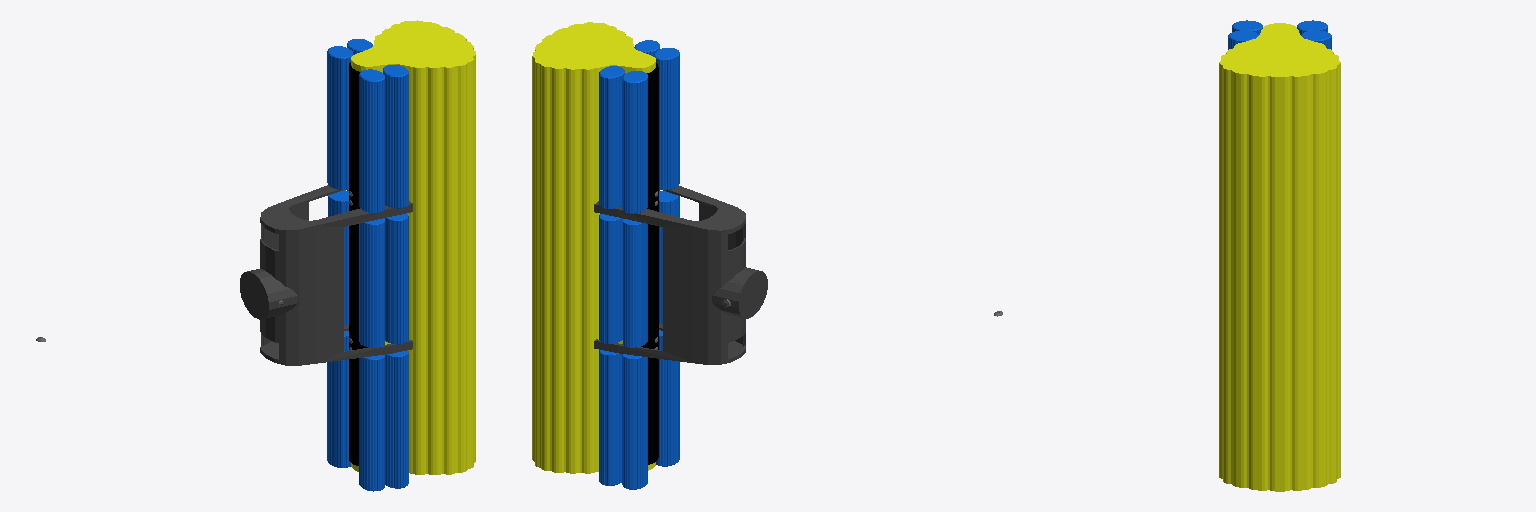
robot.urdf — spot_arm:
<?xml version="1.0" ?>
<robot name="spot_arm" xmlns:xacro="http://www.ros.org/wiki/xacro">

<material name="silver">
  <color rgba="0.700 0.700 0.700 1.000"/>
</material>
<link name="body">
    <visual>
        <geometry>
            <mesh filename="package://spot_arm/meshes/body.dae" />
        </geometry>
    </visual>
    <collision>
        <geometry>
            <mesh filename="package://spot_arm/meshes/body_collision.dae" />
        </geometry>
    </collision>
</link>

<joint name="base_arm_joint" type="fixed">
  <origin xyz="0.29 0 0.08" rpy="0 0 0" />
  <parent link="body" />
  <child link="base_arm_link" />
</joint>

<link name="base_arm_link">
  <inertial>
    <origin rpy="0 0 0" xyz="1.2371844231029972e-17 0.0 0.0325"/>
    <mass value="5.770791545379091"/>
    <inertia ixx="0.007226" ixy="-0.0" ixz="0.0" iyy="0.007226" iyz="0.0" izz="0.010387"/>
  </inertial>
  <visual>
    <origin rpy="0 0 0" xyz="0 0 0"/>
    <geometry>
      <mesh filename="package://spot_arm/meshes/arm/base_link.dae" scale="0.1 0.1 0.1"/>
    </geometry>
  </visual>
  <collision>
    <origin rpy="0 0 0" xyz="0 0 0"/>
    <geometry>
      <mesh filename="package://spot_arm/meshes/arm/base_link_collision.dae" scale="0.1 0.1 0.1"/>
    </geometry>
  </collision>
</link>

<joint name="arm_joint1" type="revolute">
  <origin rpy="0 0 1.5707963267948966" xyz="0.0 0.0 0.065"/>
  <parent link="base_arm_link"/>
  <child link="link1"/>
  <axis xyz="0.0 0.0 1.0"/>
  <limit effort="100" lower="-3.141593" upper="2.617994" velocity="100"/>
</joint>

<link name="link1">
  <inertial>
    <origin rpy="0 0 0" xyz="0.05071972800114364 -1.0308563411658574e-17 0.04676911608650795"/>
    <mass value="6.925827706354272"/>
    <inertia ixx="0.01241" ixy="-0.0" ixz="-0.001047" iyy="0.010387" iyz="0.0" izz="0.012306"/>
  </inertial>
  <visual>
    <origin rpy="0 0 0" xyz="-0.0 -0.0 -0.065"/>
    <geometry>
      <mesh filename="package://spot_arm/meshes/arm/link1.dae" scale="0.1 0.1 0.1"/>
    </geometry>
    <material name="silver"/>
  </visual>
  <collision>
    <origin rpy="0 0 0" xyz="-0.0 -0.0 -0.065"/>
    <geometry>
      <mesh filename="package://spot_arm/meshes/arm/link1_collision.dae" scale="0.1 0.1 0.1"/>
    </geometry>
  </collision>
</link>


<joint name="arm_joint2" type="revolute">
  <origin rpy="-3.141592653589793 0 0" xyz="0.015 0.0 0.05"/>
  <parent link="link1"/>
  <child link="link2"/>
  <axis xyz="1.0 0.0 0.0"/>
  <limit effort="100" lower="-3.665191" upper="0.0" velocity="100"/>
</joint>


<link name="link2">
  <inertial>
    <origin rpy="0 0 0" xyz="-0.0163095589512068 0.17540914221218962 0.0"/>
    <mass value="12.658281999999998"/>
    <inertia ixx="0.12979" ixy="0.002625" ixz="0.0" iyy="0.01004" iyz="0.0" izz="0.129493"/>
  </inertial>
  <visual>
    <origin rpy="0 0 0" xyz="-0.015 -0.0 -0.115"/>
    <geometry>
      <mesh filename="package://spot_arm/meshes/arm/link2.dae" scale="0.1 0.1 0.1"/>
    </geometry>
    <material name="silver"/>
  </visual>
  <collision>
    <origin rpy="0 0 0" xyz="-0.015 -0.0 -0.115"/>
    <geometry>
      <mesh filename="package://spot_arm/meshes/arm/link2_collision.dae" scale="0.1 0.1 0.1"/>
    </geometry>
  </collision>
</link>



<joint name="arm_joint3" type="revolute">
  <origin rpy="0 0 0" xyz="0.002 0.3125 0.0"/>
  <parent link="link2"/>
  <child link="link3"/>
  <axis xyz="1.0 0.0 0.0"/>
  <limit effort="100" lower="0.0" upper="2.96706" velocity="100"/>
</joint>


<link name="link3">
  <inertial>
    <origin rpy="0 0 0" xyz="-0.015621881612358529 0.06665620790957599 -0.058074231003688394"/>
    <mass value="7.368455487741179"/>
    <inertia ixx="0.018073" ixy="0.000915" ixz="-0.00101" iyy="0.011789" iyz="0.003728" izz="0.01667"/>
  </inertial>
  <visual>
    <origin rpy="0 0 0" xyz="-0.017 -0.3125 -0.115"/>
    <geometry>
      <mesh filename="package://spot_arm/meshes/arm/link3.dae" scale="0.1 0.1 0.1"/>
    </geometry>
    <material name="silver"/>
  </visual>
  <collision>
    <origin rpy="0 0 0" xyz="-0.017 -0.3125 -0.115"/>
    <geometry>
      <mesh filename="package://spot_arm/meshes/arm/link3_collision.dae" scale="0.1 0.1 0.1"/>
    </geometry>
  </collision>
</link>


<joint name="arm_joint4" type="revolute">
  <origin rpy="0 0 0" xyz="-0.018 0.138 -0.0675"/>
  <parent link="link3"/>
  <child link="link4"/>
  <axis xyz="0.0 1.0 0.0"/>
  <limit effort="100" lower="-2.879793" upper="2.879793" velocity="100"/>
</joint>


<link name="link4">
  <inertial>
    <origin rpy="0 0 0" xyz="-0.00911464892336129 0.12606054498393937 5.551115123125783e-17"/>
    <mass value="10.95245995004642"/>
    <inertia ixx="0.066789" ixy="0.011971" ixz="-0.0" iyy="0.014993" iyz="0.0" izz="0.071949"/>
  </inertial>
  <visual>
    <origin rpy="0 0 0" xyz="0.001 -0.4505 -0.0475"/>
    <geometry>
      <mesh filename="package://spot_arm/meshes/arm/link4.dae" scale="0.1 0.1 0.1"/>
    </geometry>
    <material name="silver"/>
  </visual>
  <collision>
    <origin rpy="0 0 0" xyz="0.001 -0.4505 -0.0475"/>
    <geometry>
      <mesh filename="package://spot_arm/meshes/arm/link4_collision.dae" scale="0.1 0.1 0.1"/>
    </geometry>
  </collision>
</link>


<joint name="arm_joint5" type="revolute">
  <origin rpy="0 0 0" xyz="-0.0475 0.24809 0.0"/>
  <parent link="link4"/>
  <child link="wrist"/>
  <axis xyz="1.0 0.0 0.0"/>
  <limit effort="100" lower="-1.570796" upper="1.570796" velocity="100"/>
</joint>



<link name="wrist">
  <inertial>
    <origin rpy="0 0 0" xyz="0.03954999709763633 0.03472006124891969 4.209155544249166e-08"/>
    <mass value="3.2278801394086396"/>
    <inertia ixx="0.00339" ixy="-2.1e-05" ixz="0.0" iyy="0.002242" iyz="-0.0" izz="0.003439"/>
  </inertial>
  <visual>
    <origin rpy="0 0 0" xyz="0.0485 -0.69859 -0.0475"/>
    <geometry>
      <mesh filename="package://spot_arm/meshes/arm/wrist.dae" scale="0.1 0.1 0.1"/>
    </geometry>
    <material name="silver"/>
  </visual>
  <collision>
    <origin rpy="0 0 0" xyz="0.0485 -0.69859 -0.0475"/>
    <geometry>
      <mesh filename="package://spot_arm/meshes/arm/wrist_collision.dae" scale="0.1 0.1 0.1"/>
    </geometry>
  </collision>
</link>

<joint name="arm_joint6" type="revolute">
  <origin rpy="0 0 0" xyz="0.04 0.081 0.0"/>
  <parent link="wrist"/>
  <child link="gripper"/>
  <axis xyz="-0.0 1.0 0.0"/>
  <limit effort="100" lower="-2.96706" upper="2.96706" velocity="100"/>
</joint>


<link name="gripper">
  <inertial>
    <origin rpy="0 0 0" xyz="-8.366123908053191e-08 0.07051371901138614 0.017123167388316526"/>
    <mass value="5.9780007036604434"/>
    <inertia ixx="0.01723" ixy="0.0" ixz="0.0" iyy="0.00734" iyz="-0.003871" izz="0.0153"/>
  </inertial>
  <visual>
    <origin rpy="0 0 0" xyz="0.0085 -0.77959 -0.0475"/>
    <geometry>
      <mesh filename="package://spot_arm/meshes/arm/gripper.dae" scale="0.1 0.1 0.1"/>
    </geometry>
    <material name="silver"/>
  </visual>
  <collision>
    <origin rpy="0 0 0" xyz="0.0085 -0.77959 -0.0475"/>
    <geometry>
      <mesh filename="package://spot_arm/meshes/arm/gripper_collision.dae" scale="0.1 0.1 0.1"/>
    </geometry>
  </collision>
</link>

<joint name="arm_gripper" type="revolute">
  <origin rpy="0 0 0" xyz="-0.86859 0.043915 -0.029"/>
  <parent link="gripper"/>
  <child link="finger"/>
  <axis xyz="1.0 -0.0 0.0"/>
  <limit effort="100" lower="-1.396263" upper="0.349066" velocity="100"/>
</joint>

<link name="finger">
  <inertial>
    <origin rpy="0 0 0" xyz="0.8635899028063472 0.09862056591557622 0.00850232975194119"/>
    <mass value="1.71236178687828"/>
    <inertia ixx="0.002129" ixy="0.0" ixz="-0.0" iyy="0.001681" iyz="0.000162" izz="0.003403"/>
  </inertial>
  <visual>
    <origin rpy="0 0 0" xyz="0.87709 -0.823505 -0.0185"/>
    <geometry>
      <mesh filename="package://spot_arm/meshes/arm/finger.dae" scale="0.1 0.1 0.1"/>
    </geometry>
    <material name="silver"/>
  </visual>
  <collision>
    <origin rpy="0 0 0" xyz="0.87709 -0.823505 -0.0185"/>
    <geometry>
      <mesh filename="package://spot_arm/meshes/arm/finger_collision.dae" scale="0.1 0.1 0.1"/>
    </geometry>
  </collision>
</link>

  <joint name="tool_tip_joint" type="fixed">
    <origin xyz="0.0 0.25 0.0" rpy="-1.570796 0 0" />
    <parent link="gripper" />
    <child link="tool_tip" />
  </joint>

  <link name="tool_tip"/>

  <joint name="finger_tip_joint" type="fixed">
    <origin rpy="-1.570796 0 0" xyz="0 0.20 0"/>
    <parent link="gripper"/>
    <child link="finger_tip"/>
  </joint>

  <link name="finger_tip"/>

   <link name="base_link"/>
    <joint name="base_link_joint" type="fixed">
        <origin xyz="0 0 0" rpy="0 0 0" />
        <parent link="body" />
        <child link="base_link" />
    </joint>

    <link name="front_rail"/>
    <joint name="front_rail_joint" type="fixed">
        <origin xyz="0.223 0 0.0805" rpy="0 0 0" />
        <parent link="body" />
        <child link="front_rail" />
    </joint>

    <link name="real_front_rail"/>
    <joint name="real_front_rail_joint" type="fixed">
        <origin xyz="0.2075 0 0.0805" rpy="0 0 0" />
        <parent link="body" />
        <child link="real_front_rail" />
    </joint>

    <link name="rear_rail"/>
    <joint name="rear_rail_joint" type="fixed">
        <origin xyz="-0.223 0 0.0805" rpy="0 0 0" />
        <parent link="body" />
        <child link="rear_rail" />
    </joint>

    <link name="real_rear_rail"/>
    <joint name="real_rear_rail_joint" type="fixed">
        <origin xyz="-0.415 0 0" rpy="0 0 0" />
        <parent link="real_front_rail" />
        <child link="real_rear_rail" />
    </joint>

    <link name="front_left_hip">
        <visual>
            <geometry>
                <mesh filename="package://spot_arm/meshes/front_left_hip.dae" />
            </geometry>
        </visual>
        <collision>
            <geometry>
                <mesh filename="package://spot_arm/meshes/front_left_hip_collision.dae" />
            </geometry>
        </collision>
    </link>
    <joint name="front_left_hip_x" type="revolute">
        <origin xyz="0.29785 0.05500 0.00000" rpy="0.0 0 0" />
        <axis xyz="1 0 0" />
        <parent link="body" />
        <child link="front_left_hip" />
        <limit effort="1000" velocity="1000.00" lower="-0.78539816339744827899" upper="0.78539816339744827899" />
    </joint>
    <link name="front_left_upper_leg">
        <visual>
            <geometry>
                <mesh filename="package://spot_arm/meshes/front_left_upper_leg.dae" />
            </geometry>
        </visual>
        <collision>
            <geometry>
                <mesh filename="package://spot_arm/meshes/front_left_upper_leg_collision.dae" />
            </geometry>
        </collision>
    </link>
    <joint name="front_left_hip_y" type="revolute">
        <origin xyz="0.0 0.110945 0.0" rpy="0 1.3 0" />
        <axis xyz="0 1 0" />
        <parent link="front_left_hip" />
        <child link="front_left_upper_leg" />
        <limit effort="1000" velocity="1000.00" lower="-0.89884456477707963539" upper="2.2951079663725435509" />
    </joint>
    <link name="front_left_lower_leg">
        <visual>
            <geometry>
                <mesh filename="package://spot_arm/meshes/front_left_lower_leg.dae" />
            </geometry>
        </visual>
        <collision>
            <geometry>
                <mesh filename="package://spot_arm/meshes/front_left_lower_leg_collision.dae" />
            </geometry>
        </collision>
    </link>
    <joint name="front_left_knee" type="revolute">
        <origin xyz="0.025 0.000 -0.3205" rpy="0 -2.5 0" />
        <axis xyz="0 1 0" />
        <parent link="front_left_upper_leg" />
        <child link="front_left_lower_leg" />
        <limit effort="1000" velocity="1000.00" lower="-2.7929" upper="-0.254801" />
    </joint>
    <link name="front_right_hip">
        <visual>
            <geometry>
                <mesh filename="package://spot_arm/meshes/front_right_hip.dae" />
            </geometry>
        </visual>
        <collision>
            <geometry>
                <mesh filename="package://spot_arm/meshes/front_right_hip_collision.dae" />
            </geometry>
        </collision>
    </link>
    <joint name="front_right_hip_x" type="revolute">
        <origin xyz="0.29785 -0.05500 0.00000" rpy="0 0 0" />
        <axis xyz="1 0 0" />
        <parent link="body" />
        <child link="front_right_hip" />
        <limit effort="1000" velocity="1000.00" lower="-0.78539816339744827899" upper="0.78539816339744827899" />
    </joint>
    <link name="front_right_upper_leg">
        <visual>
            <geometry>
                <mesh filename="package://spot_arm/meshes/front_right_upper_leg.dae" />
            </geometry>
        </visual>
        <collision>
            <geometry>
                <mesh filename="package://spot_arm/meshes/front_right_upper_leg_collision.dae" />
            </geometry>
        </collision>
    </link>
    <joint name="front_right_hip_y" type="revolute">
        <origin xyz="0.0 -0.110945 0.0" rpy="0 1.3 0" />
        <axis xyz="0 1 0" />
        <parent link="front_right_hip" />
        <child link="front_right_upper_leg" />
        <limit effort="1000" velocity="1000.00" lower="-0.89884456477707963539" upper="2.2951079663725435509" />
    </joint>
    <link name="front_right_lower_leg">
        <visual>
            <geometry>
                <mesh filename="package://spot_arm/meshes/front_right_lower_leg.dae" />
            </geometry>
        </visual>
        <collision>
            <geometry>
                <mesh filename="package://spot_arm/meshes/front_right_lower_leg_collision.dae" />
            </geometry>
        </collision>
    </link>
    <joint name="front_right_knee" type="revolute">
        <origin xyz="0.025 0.000 -0.3205" rpy="0 -2.5 0" />
        <axis xyz="0 1 0" />
        <parent link="front_right_upper_leg" />
        <child link="front_right_lower_leg" />
        <limit effort="1000" velocity="1000.00" lower="-2.7929" upper="-0.247563" />
    </joint>
    <link name="rear_left_hip">
        <visual>
            <geometry>
                <mesh filename="package://spot_arm/meshes/rear_left_hip.dae" />
            </geometry>
        </visual>
        <collision>
            <geometry>
                <mesh filename="package://spot_arm/meshes/rear_left_hip_collision.dae" />
            </geometry>
        </collision>
    </link>
    <joint name="rear_left_hip_x" type="revolute">
        <origin xyz="-0.29785 0.05500 0.00000" rpy="0 0 0" />
        <axis xyz="1 0 0" />
        <parent link="body" />
        <child link="rear_left_hip" />
        <limit effort="1000" velocity="1000.00" lower="-0.78539816339744827899" upper="0.78539816339744827899" />
    </joint>
    <link name="rear_left_upper_leg">
        <visual>
            <geometry>
                <mesh filename="package://spot_arm/meshes/rear_left_upper_leg.dae" />
            </geometry>
        </visual>
        <collision>
            <geometry>
                <mesh filename="package://spot_arm/meshes/rear_left_upper_leg_collision.dae" />
            </geometry>
        </collision>
    </link>
    <joint name="rear_left_hip_y" type="revolute">
        <origin xyz="0.0 0.110945 0.0" rpy="0 1.3 0" />
        <axis xyz="0 1 0" />
        <parent link="rear_left_hip" />
        <child link="rear_left_upper_leg" />
        <limit effort="1000" velocity="1000.00" lower="-0.89884456477707963539" upper="2.2951079663725435509" />
    </joint>
    <link name="rear_left_lower_leg">
        <visual>
            <geometry>
                <mesh filename="package://spot_arm/meshes/rear_left_lower_leg.dae" />
            </geometry>
        </visual>
        <collision>
            <geometry>
                <mesh filename="package://spot_arm/meshes/rear_left_lower_leg_collision.dae" />
            </geometry>
        </collision>
    </link>
    <joint name="rear_left_knee" type="revolute">
        <origin xyz="0.025 0.000 -0.3205" rpy="0 -2.5 0" />
        <axis xyz="0 1 0" />
        <parent link="rear_left_upper_leg" />
        <child link="rear_left_lower_leg" />
        <limit effort="1000" velocity="1000.00" lower="-2.7929" upper="-0.267153" />
    </joint>
    <link name="rear_right_hip">
        <visual>
            <geometry>
                <mesh filename="package://spot_arm/meshes/rear_right_hip.dae" />
            </geometry>
        </visual>
        <collision>
            <geometry>
                <mesh filename="package://spot_arm/meshes/rear_right_hip_collision.dae" />
            </geometry>
        </collision>
    </link>
    <joint name="rear_right_hip_x" type="revolute">
        <origin xyz="-0.29785 -0.05500 0.00000" rpy="0 0 0" />
        <axis xyz="1 0 0" />
        <parent link="body" />
        <child link="rear_right_hip" />
        <limit effort="1000" velocity="1000.00" lower="-0.78539816339744827899" upper="0.78539816339744827899" />
    </joint>
    <link name="rear_right_upper_leg">
        <visual>
            <geometry>
                <mesh filename="package://spot_arm/meshes/rear_right_upper_leg.dae" />
            </geometry>
        </visual>
        <collision>
            <geometry>
                <mesh filename="package://spot_arm/meshes/rear_right_upper_leg_collision.dae" />
            </geometry>
        </collision>
    </link>
    <joint name="rear_right_hip_y" type="revolute">
        <origin xyz="0.0 -0.110945 0.0" rpy="0 1.3 0" />
        <axis xyz="0 1 0" />
        <parent link="rear_right_hip" />
        <child link="rear_right_upper_leg" />
        <limit effort="1000" velocity="1000.00" lower="-0.89884456477707963539" upper="2.2951079663725435509" />
    </joint>
    <link name="rear_right_lower_leg">
        <visual>
            <geometry>
                <mesh filename="package://spot_arm/meshes/rear_right_lower_leg.dae" />
            </geometry>
        </visual>
        <collision>
            <geometry>
                <mesh filename="package://spot_arm/meshes/rear_right_lower_leg_collision.dae" />
            </geometry>
        </collision>
    </link>
    <joint name="rear_right_knee" type="revolute">
        <origin xyz="0.025 0.000 -0.3205" rpy="0 -2.5 0" />
        <axis xyz="0 1 0" />
        <parent link="rear_right_upper_leg" />
        <child link="rear_right_lower_leg" />
        <limit effort="1000" velocity="1000.00" lower="-2.7929" upper="-0.257725" />
    </joint>

    <link name="cleaning_tool">
        <visual>
            <geometry>
                <mesh filename="package://spot_arm/meshes/cleaning_tool.dae" />
            </geometry>
        </visual>
        <collision>
            <geometry>
                <mesh filename="package://spot_arm/meshes/cleaning_tool_collision.dae" />
            </geometry>
        </collision>
    </link>

    <joint name="cleaning_tool_joint" type="fixed">
      <origin xyz="0.0 0.15 0.0" rpy="1.570796  1.570796 0" />
      <parent link="gripper" />
      <child link="cleaning_tool" />
    </joint>
</robot>

--- What the picture shows (computed from the rendered views, not written in the file) ---
The picture shows the robot from 3 angles, left to right: view 1: azimuth 30°, elevation 25°; view 2: azimuth 150°, elevation 25°; view 3: azimuth 270°, elevation 25°; orthographic projection.
Robot: spot_arm — 29 links, 28 joints (19 revolute, 9 fixed); root link body; default pose: all joints at 0 but 4 set to mid-range because 0 is outside their limits (front_left_knee = -1.52, front_right_knee = -1.52, rear_left_knee = -1.53, rear_right_knee = -1.53).
Visible links, largest first — view 1: cleaning_tool; view 2: cleaning_tool; view 3: cleaning_tool.
Link boxes in pixels (x1=…): cleaning_tool: x1=36, y1=20, x2=475, y2=491; cleaning_tool: x1=532, y1=22, x2=1002, y2=489; cleaning_tool: x1=1219, y1=20, x2=1340, y2=491.
Size in the robot's own frame: 0.2449 by 0.0573 by 0.2178 metres.
1 mesh visuals loaded from 22 distinct referenced files (1 Collada DAE); not drawn: 21 (reference not matched to a file when rendering).